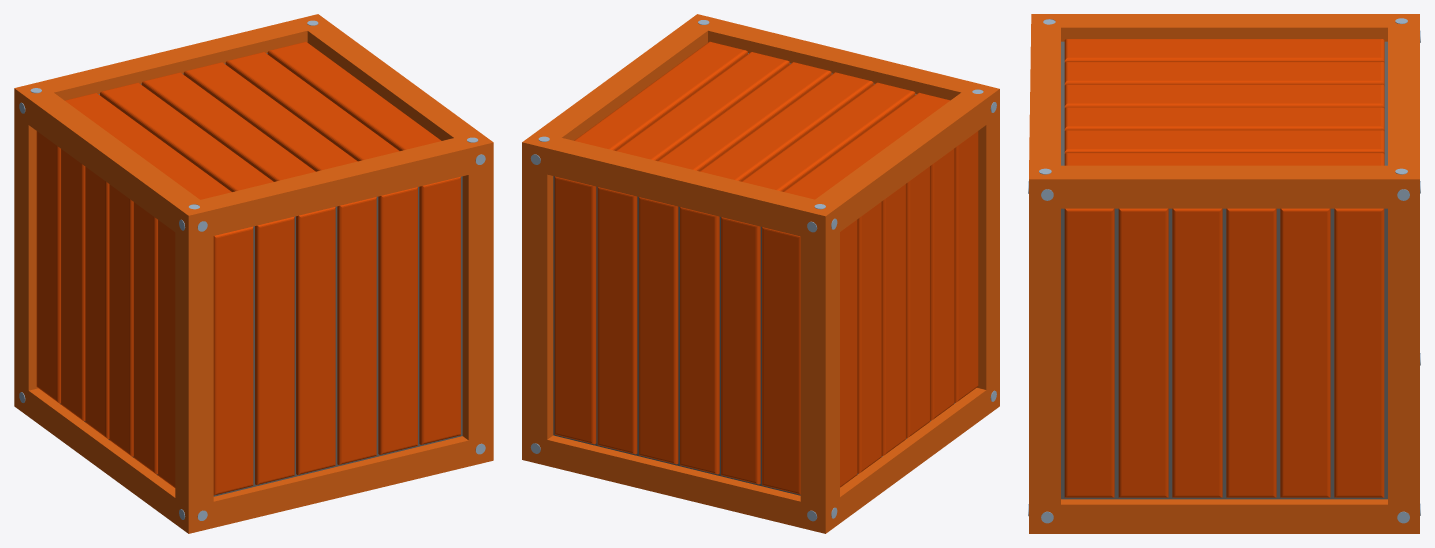
The model's file is 6x0 kutija v2 final.fbx.
3 renders of one model, left to right at view 1: azimuth 30°, elevation 25°; view 2: azimuth 150°, elevation 25°; view 3: azimuth 270°, elevation 25°, orthographic. The views are drawn at different scales.
Parts seen in each view (by area): view 1: Cube.192; view 2: Cube.192; view 3: Cube.192.
Boxes of the visible parts, box(x1,y1,x2,y2) form: Cube.192: box(14, 14, 493, 533); Cube.192: box(522, 14, 999, 533); Cube.192: box(1028, 14, 1420, 533).
Bounding box in the file's own units: 201 × 200 × 201.
